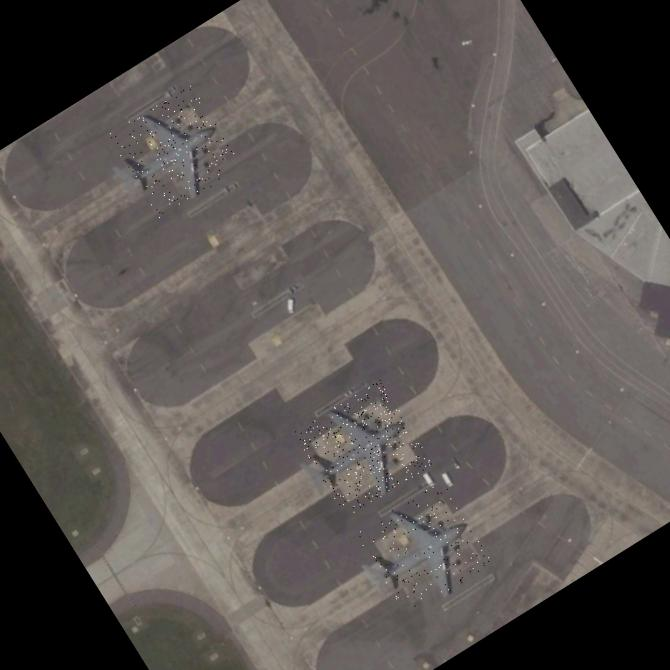A3: (293, 378, 433, 518), (355, 478, 494, 618), (107, 82, 243, 218)
